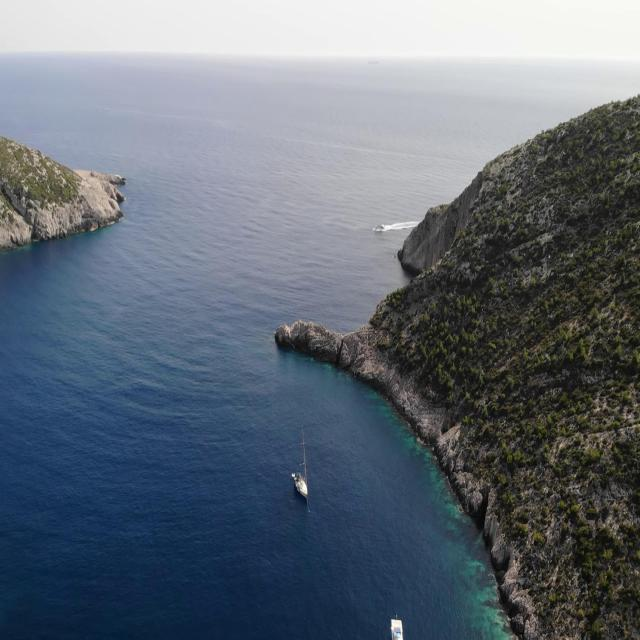sailboat: (292, 430, 310, 502)
